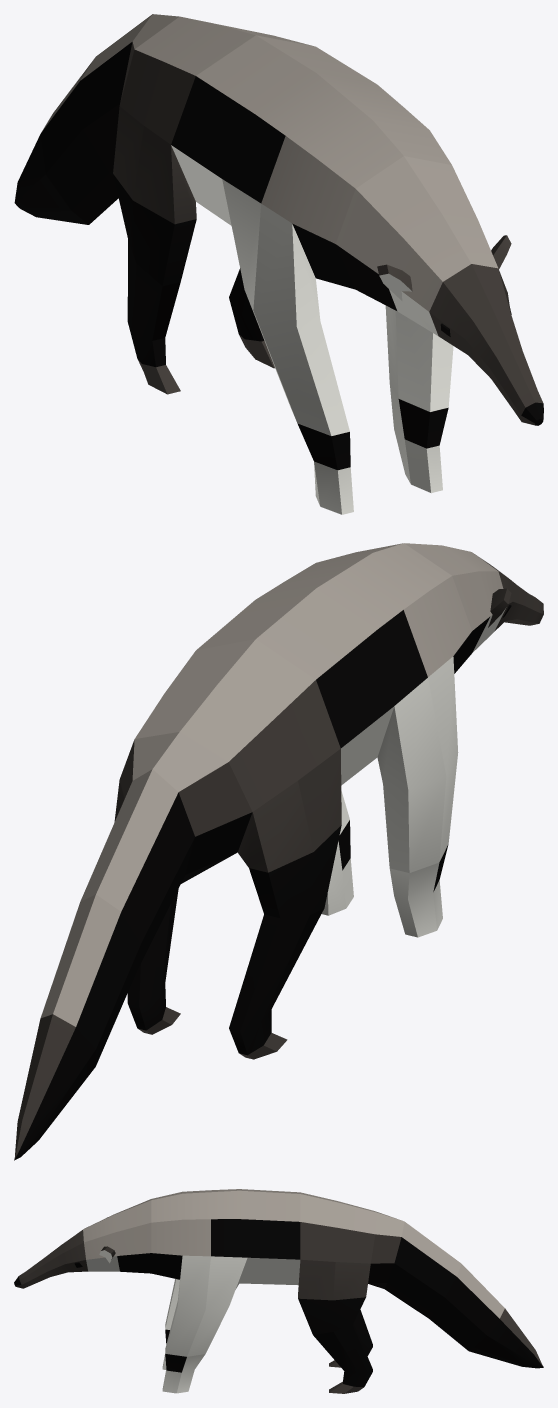
The picture shows the model from 3 angles, top to bottom: view 1: azimuth 30°, elevation 25°; view 2: azimuth 150°, elevation 25°; view 3: azimuth 270°, elevation 25°; orthographic projection. The views are drawn at different scales.
Visible parts, largest first — view 1: Geo_Anteater; view 2: Geo_Anteater; view 3: Geo_Anteater.
Boxes of the visible parts, box(x1,y1,x2,y2) form: Geo_Anteater: box(14, 14, 543, 514); Geo_Anteater: box(14, 543, 543, 1160); Geo_Anteater: box(14, 1189, 543, 1393).
Bounding box in the file's own units: 32.08 × 59.35 × 151.
1 material, 1 textured.
